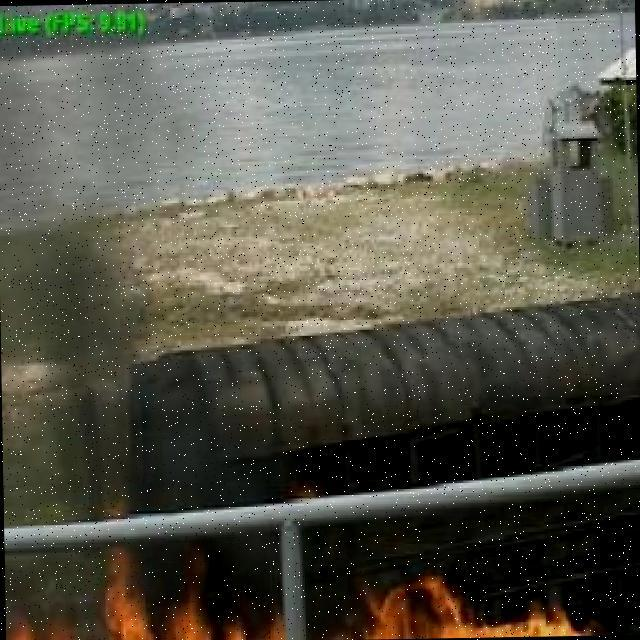Fire: (104, 539, 281, 640), (367, 576, 576, 640), (4, 579, 87, 640)
